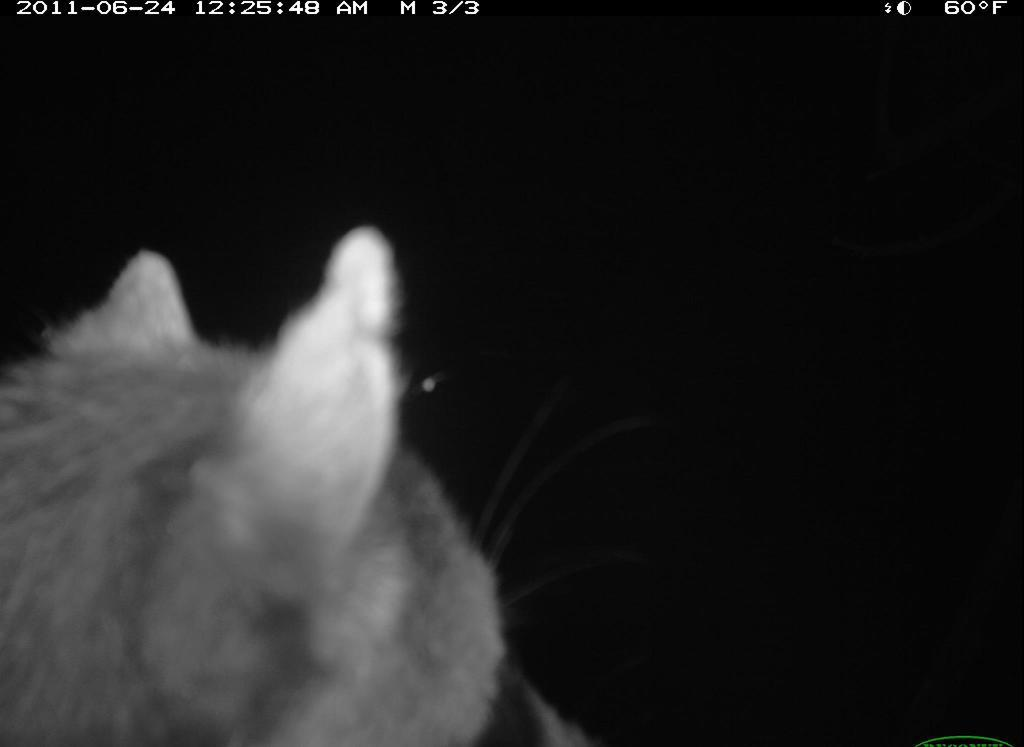raccoon: (1, 184, 603, 747)
